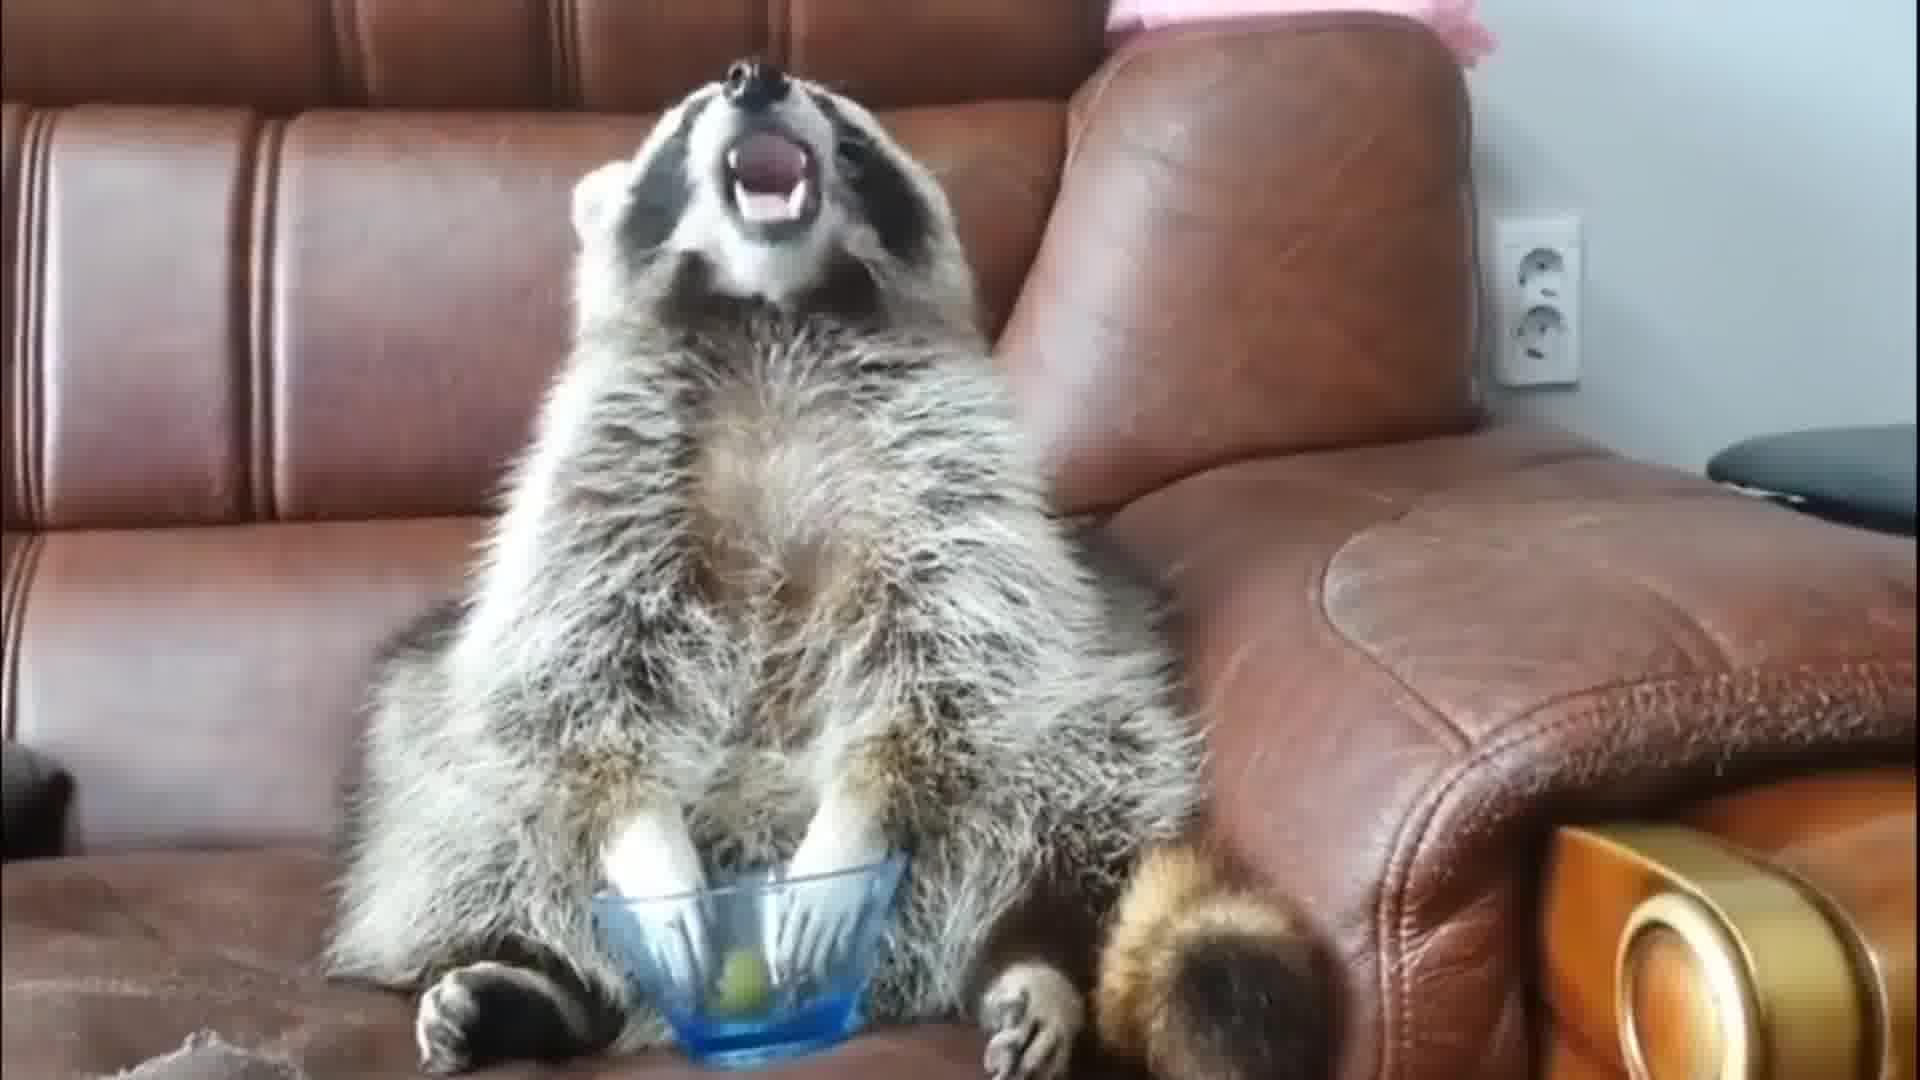raccoon: (327, 53, 1342, 1080)
